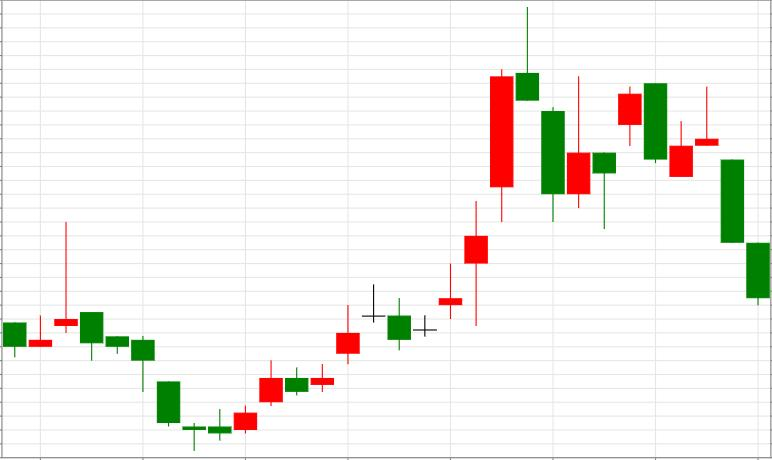shooting_star_fall: (234, 7, 539, 433)
